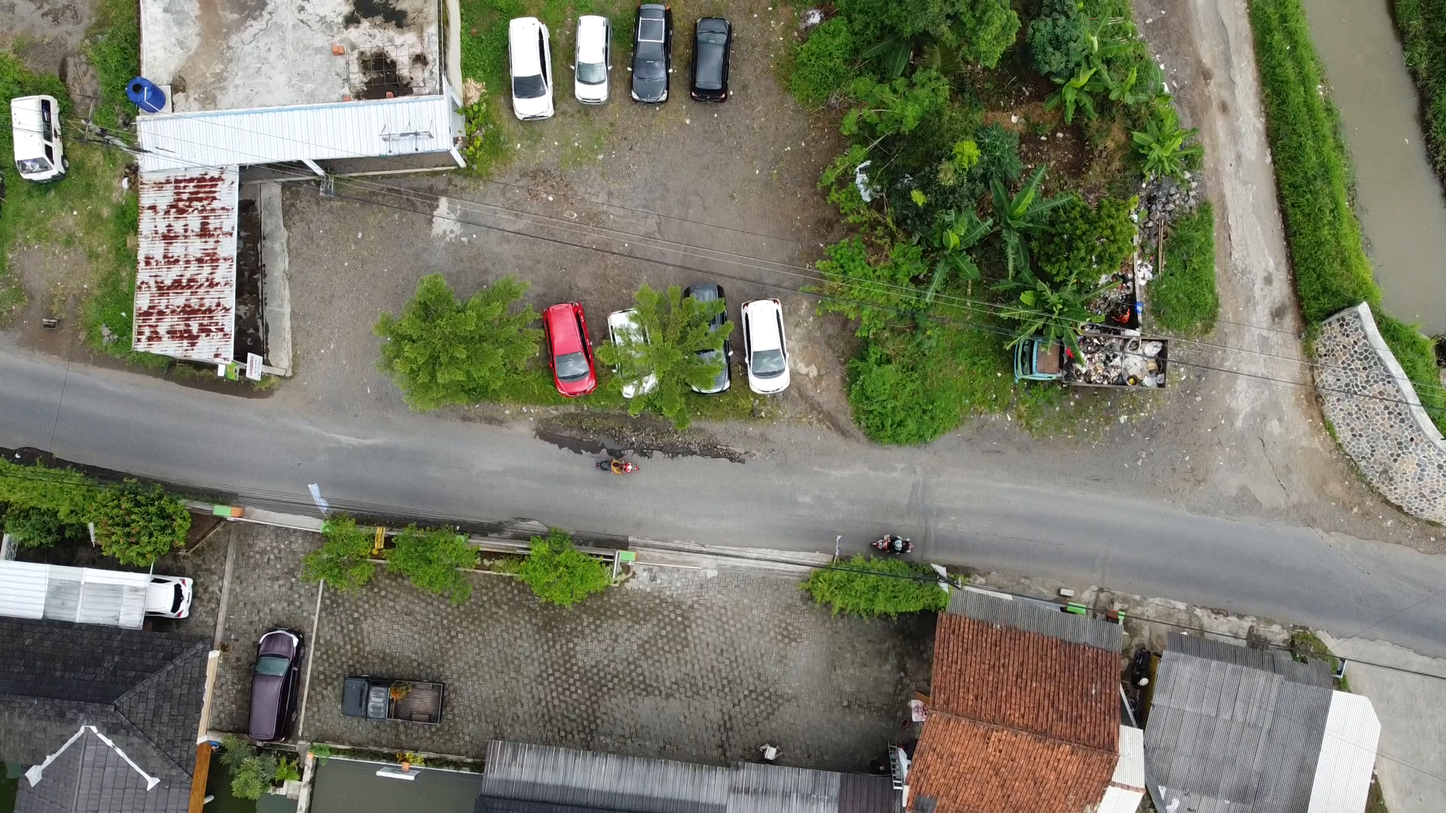mobil: (242, 620, 316, 745), (673, 269, 737, 411), (733, 289, 800, 405), (323, 669, 472, 720), (535, 299, 609, 400), (599, 304, 666, 404), (559, 9, 623, 111), (5, 95, 72, 191), (502, 5, 557, 120), (621, 1, 676, 110), (688, 6, 738, 96), (138, 570, 203, 626)
